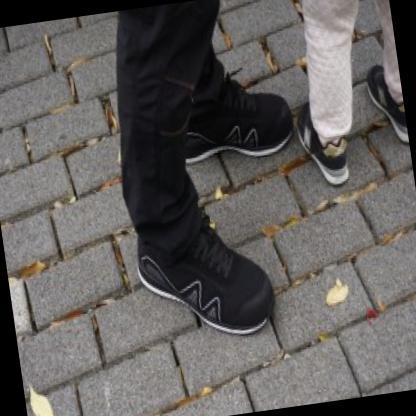safety-shoe: (122, 189, 286, 374), (151, 55, 301, 185)
